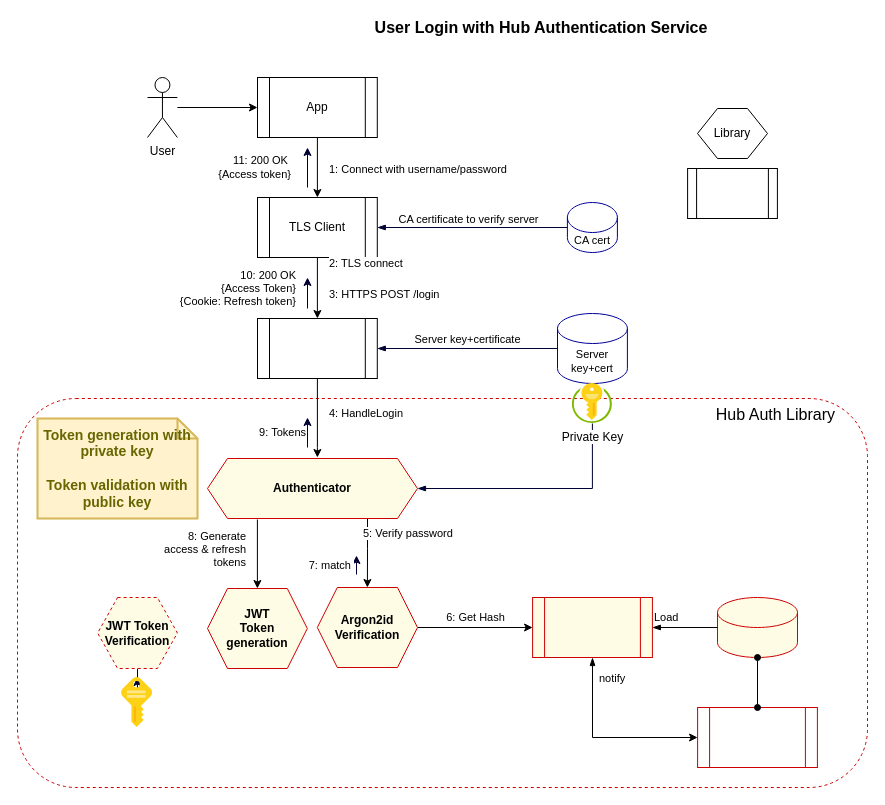
This 885x805 diagram has some shape labels left out. Each missing label, with the centre of its shape:
File Watcher: point 757,737
Password Hash: point 757,627
Process: point 732,193
Public Key: point 136,702
TLS App Server: point 316,348
UnpwStore: point 592,627
